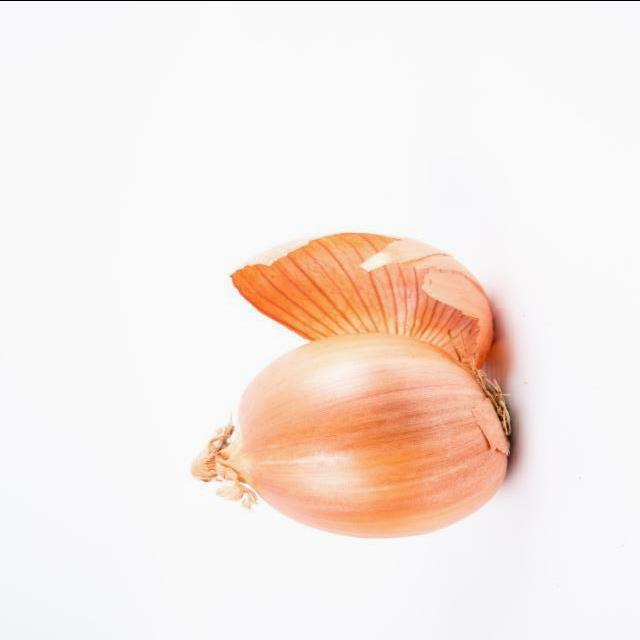onion: (195, 331, 514, 539)
